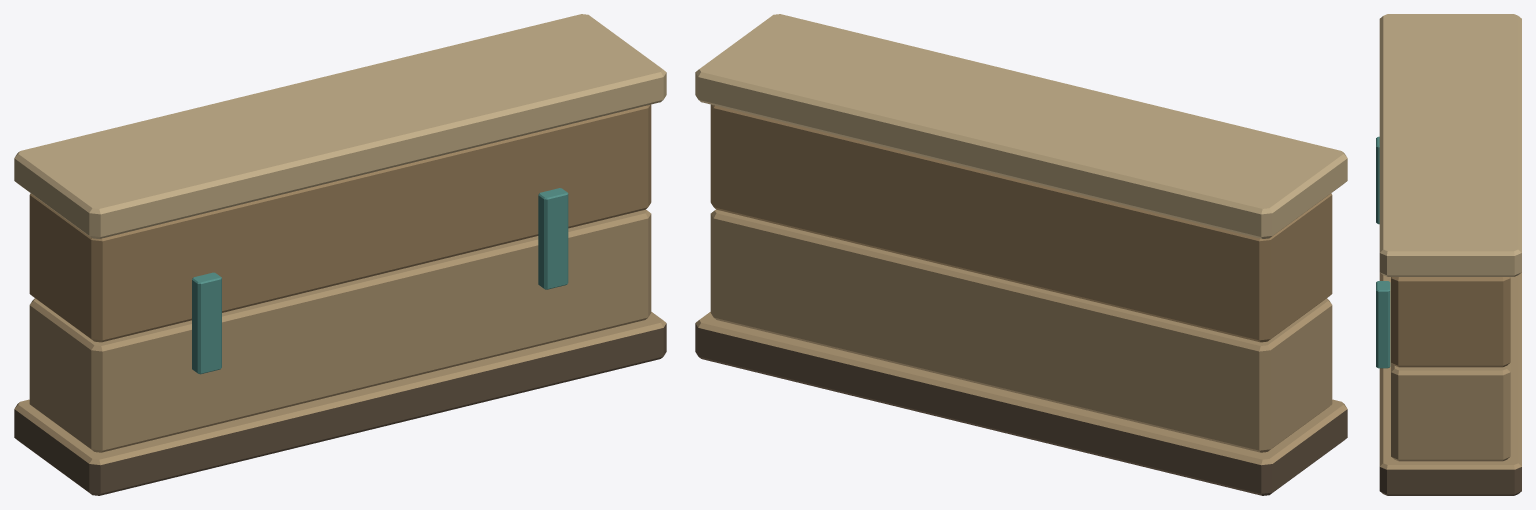
The model's file is wall-straight.glb.
The picture shows the model from 3 angles, left to right: view 1: azimuth 30°, elevation 25°; view 2: azimuth 150°, elevation 25°; view 3: azimuth 270°, elevation 25°; orthographic projection. The views are drawn at different scales.
Parts seen in each view (by area): view 1: wall-straight__body; view 2: wall-straight__body; view 3: wall-straight__body.
Boxes of the visible parts, x1,y1,x2,y2 form: wall-straight__body: (14,14,666,495); wall-straight__body: (695,14,1347,495); wall-straight__body: (1376,14,1521,495).
Bounding box in the file's own units: 2 × 0.95 × 0.513.
